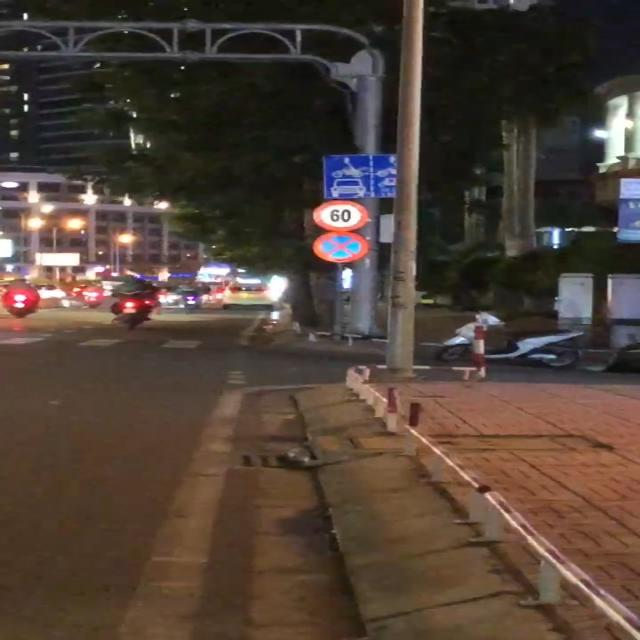Bien bao cam dung xe va do xe: (305, 230, 378, 265)
Bien bao toc do toi da cho phep: (306, 197, 378, 233)
